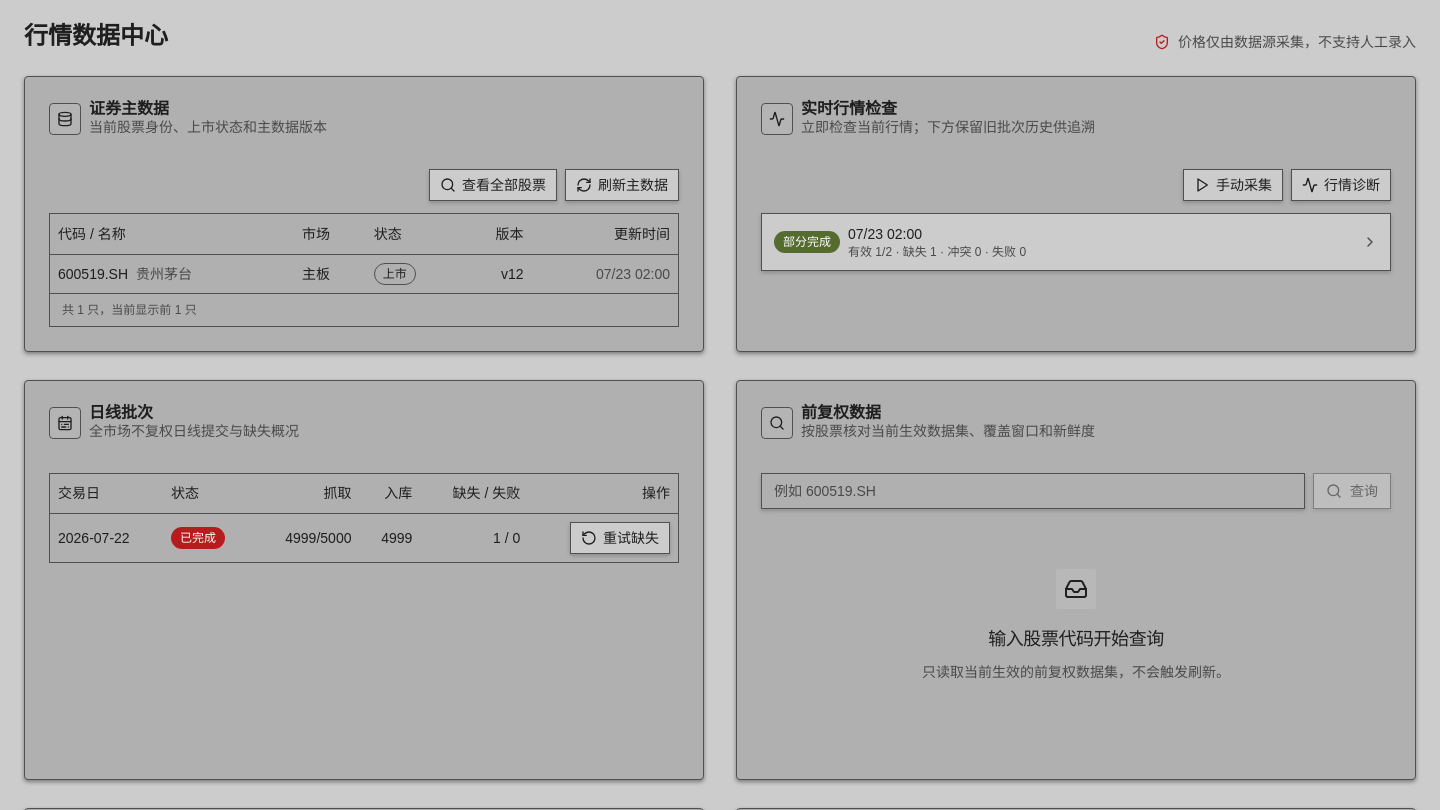
it: 行情数据中心 › 可展开实时批次逐股诊断并按股票查询复权数据
Click the button with aria-label "查看批次 cycle-1 明细" at (807, 242), box [761, 213, 1391, 271]
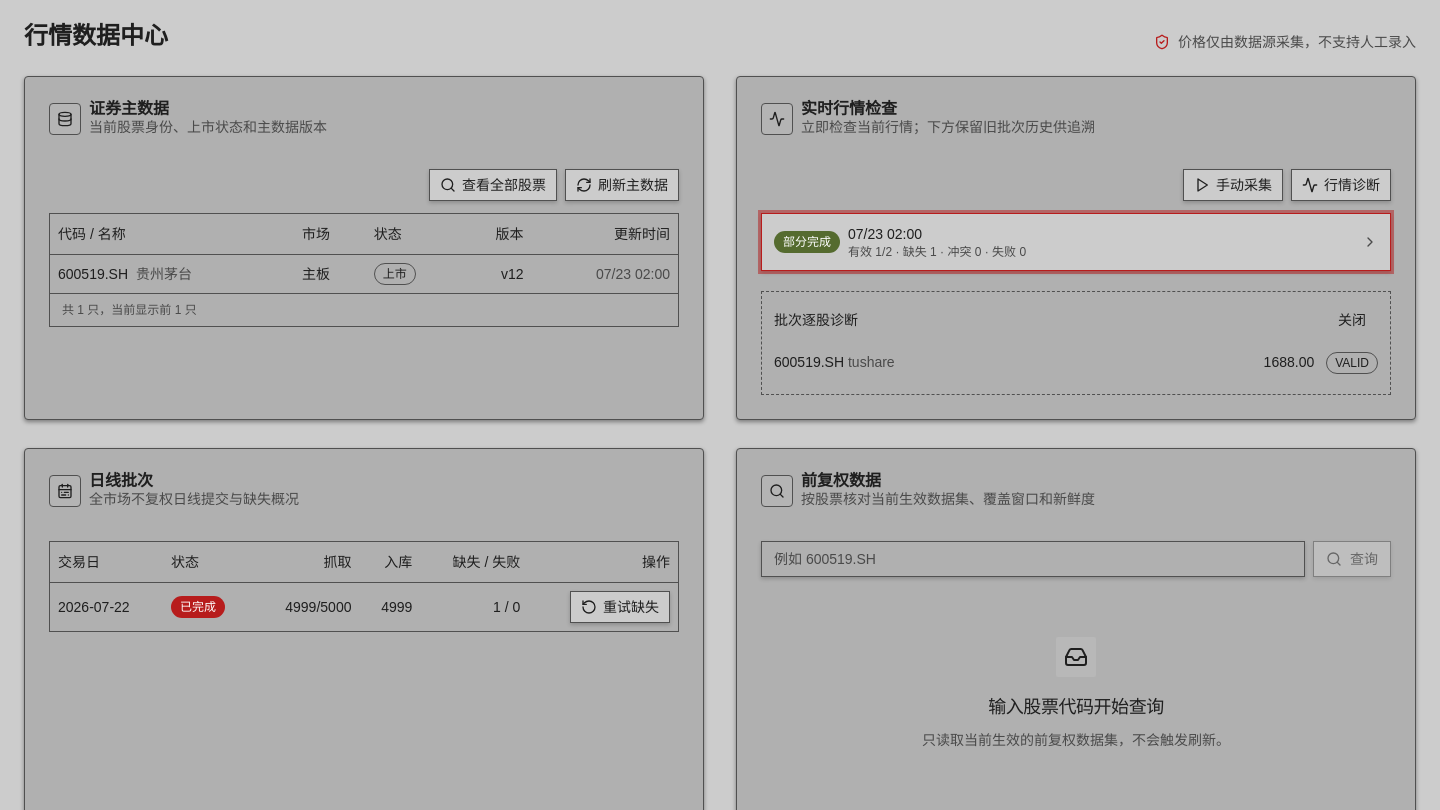
Result: the text "1688.00" is shown at [1264, 352, 1314, 374]
Type "600519.sh" into the field named "股票代码" at (1033, 559), box [761, 541, 1305, 577]
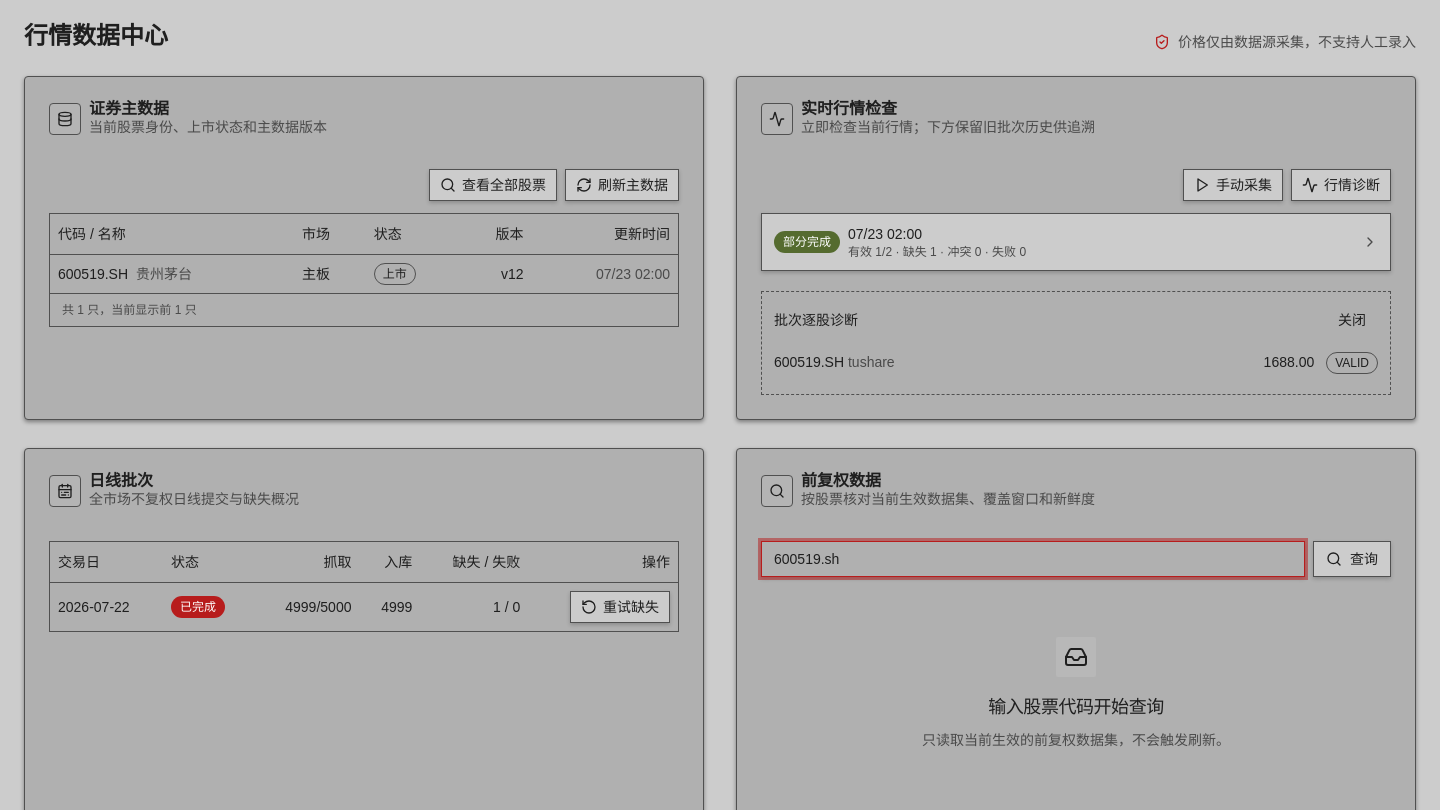
Click the button "查询" at (1352, 559), box [1313, 541, 1391, 577]
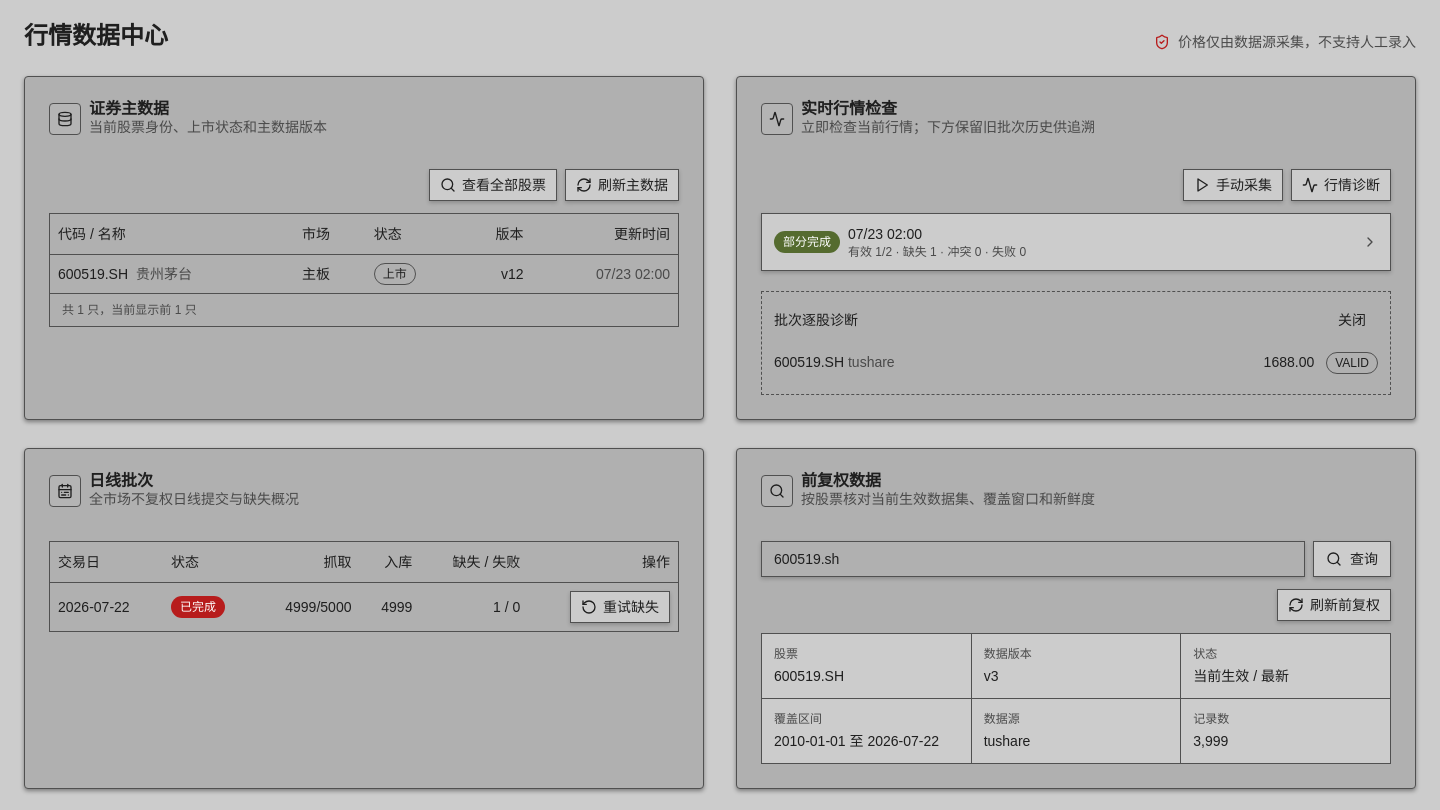
Result: the text "2010-01-01 至 2026-07-22" is shown at [774, 731, 959, 751]
